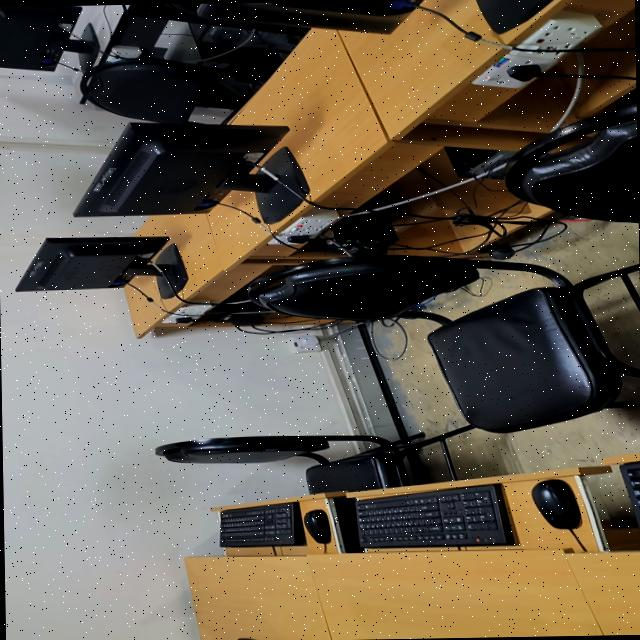Chair: (248, 254, 640, 431), (155, 424, 473, 492), (504, 102, 638, 222), (80, 57, 218, 122)
Cpu: (190, 22, 302, 51), (446, 146, 515, 178)
Keyboard: (355, 484, 513, 547), (221, 501, 302, 546), (619, 460, 640, 530)
Monitor: (75, 121, 309, 223), (15, 235, 187, 297), (189, 0, 421, 32), (0, 4, 97, 70), (476, 0, 550, 32)
Mouse: (532, 478, 580, 528), (304, 508, 330, 542)
